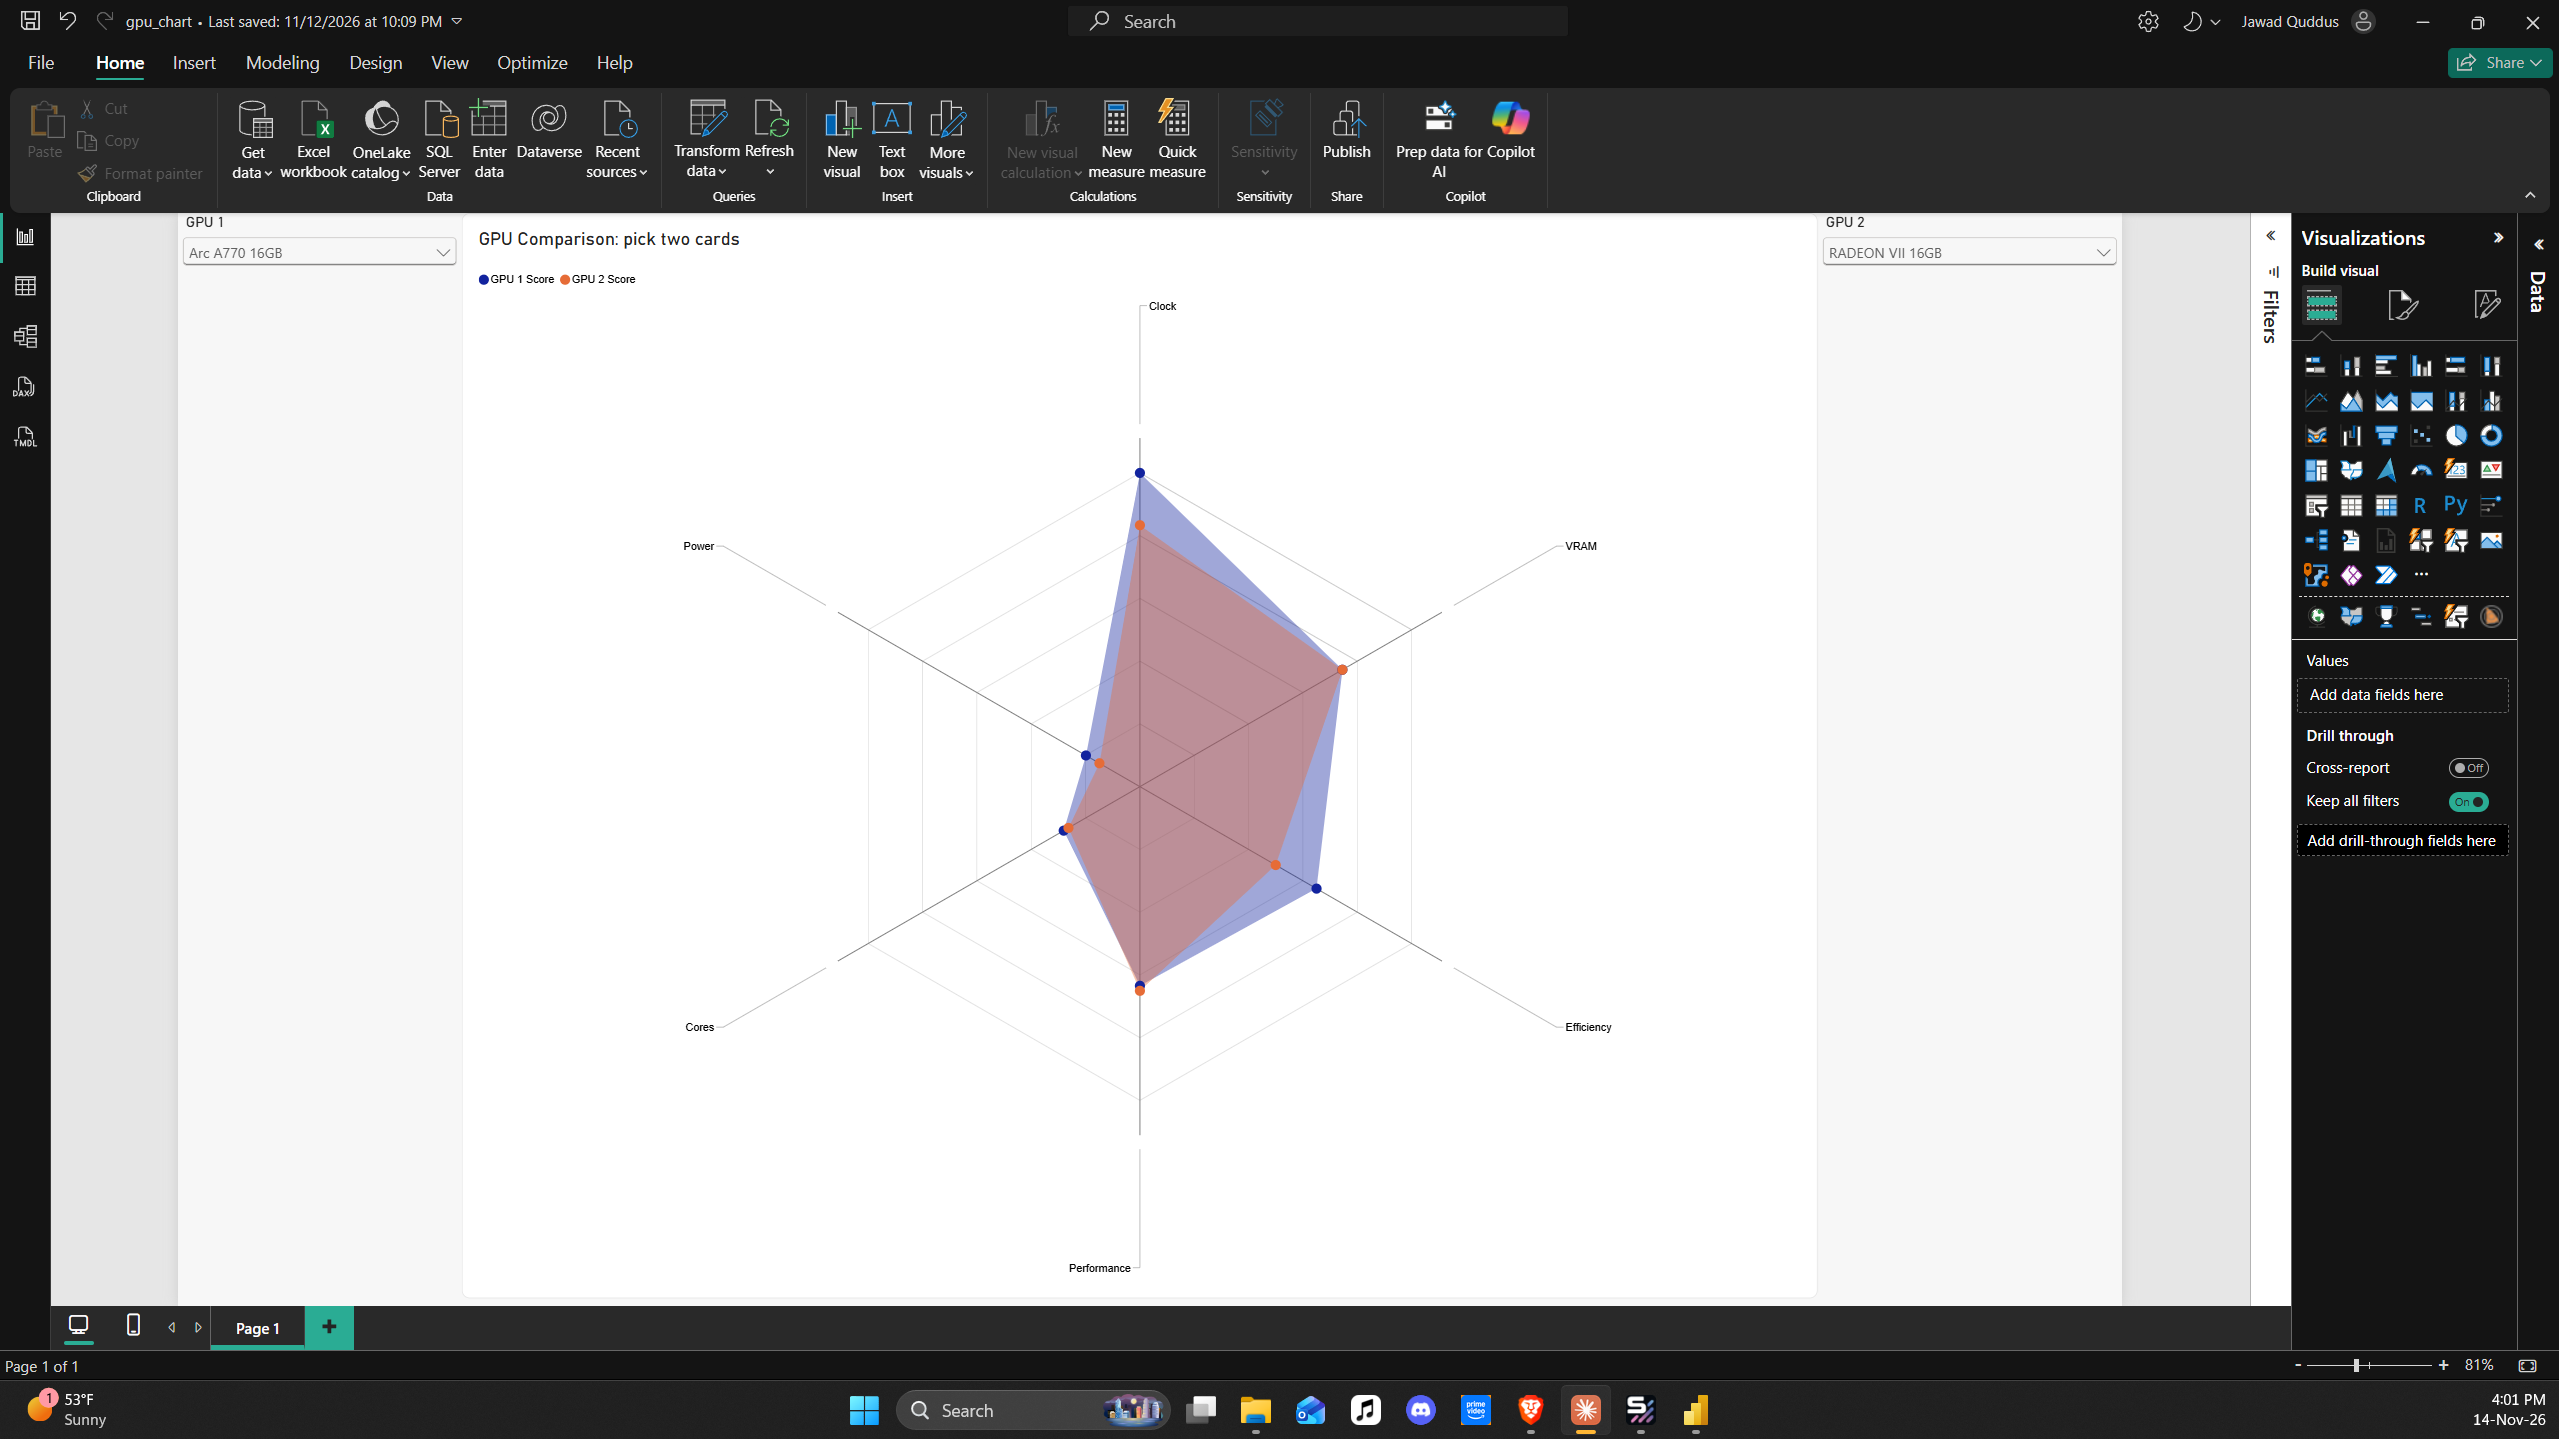

The dashboard page shown, as its layout file describes it:
{"tool":"powerbi","page":{"name":"Page 1","canvas":[1920,1080],"ordinal":0},"visuals":[{"type":"slicer","fields":{"Values":["GPU1.label"]},"box":[0,0,280,280],"z":0},{"type":"slicer","fields":{"Values":["GPU2.label"]},"box":[1619.8,0,300,300],"z":1},{"type":"RadarChart1446119667547","title":"GPU Comparison: pick two cards","fields":{"Y":["Axes.GPU 1 Score","Axes.GPU 2 Score"],"Category":["Axes.Axis"]},"box":[280.2,0,1339.5,1071.6],"z":3}]}

Visuals, with their boxes on the page's 1920x1080 design canvas (x1, y1, x2, y2). These are canvas units, not pixel positions in the 2559x1439 screenshot, which may show the page scaled, cropped or inside an application window:
slicer - GPU1.label: (0, 0, 280, 280)
slicer - GPU2.label: (1620, 0, 1920, 300)
"GPU Comparison: pick two cards" RadarChart1446119667547: (280, 0, 1620, 1072)
